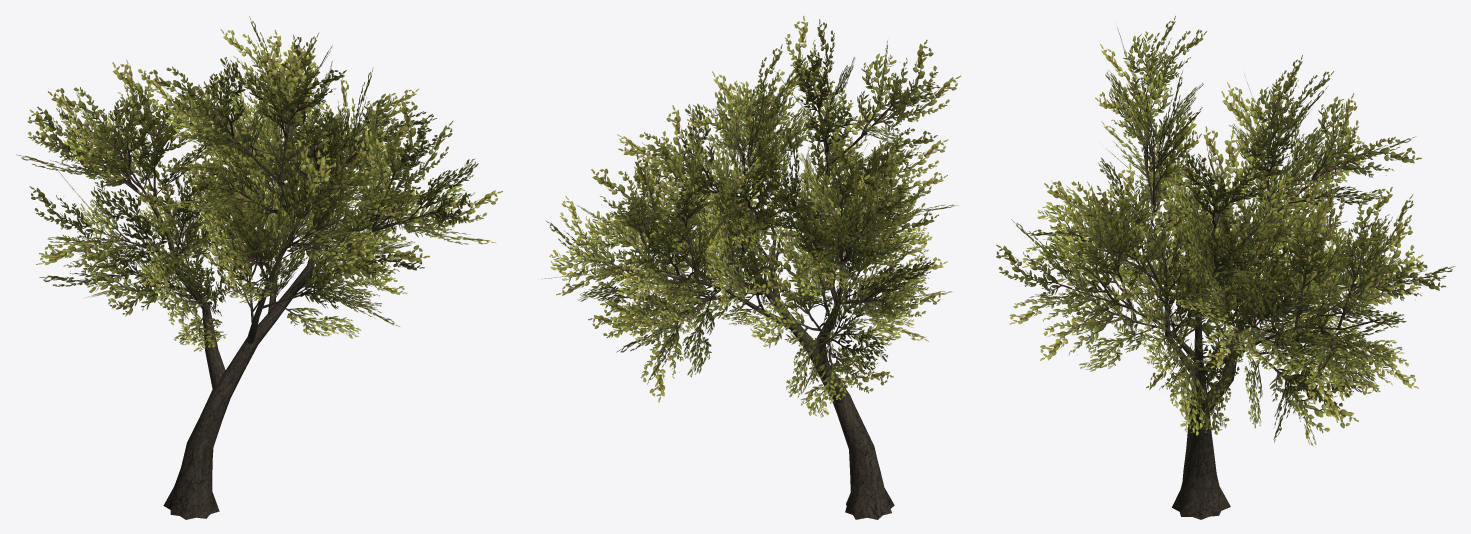
The model's file is newtrees2-transformed.glb.
3 views of the same model, side by side, from view 1: azimuth 30°, elevation 25°; view 2: azimuth 150°, elevation 25°; view 3: azimuth 270°, elevation 25° (orthographic). The views are drawn at different scales.
Parts seen in each view (by area): view 1: Canopy 1_15 - Default_0, Spline Branch E001_14 - Bark_0, Spline Branch A001_14 - Bark_0, Spline Branch B001_14 - Bark_0; view 2: Canopy 1_15 - Default_0, Spline Branch E001_14 - Bark_0, Spline Branch A001_14 - Bark_0; view 3: Canopy 1_15 - Default_0, Spline Branch E001_14 - Bark_0, Spline Branch A001_14 - Bark_0.
Boxes of the visible parts, box(x1,y1,x2,y2) form: Canopy 1_15 - Default_0: box(16, 16, 502, 351); Spline Branch E001_14 - Bark_0: box(163, 180, 324, 519); Spline Branch A001_14 - Bark_0: box(148, 194, 225, 388); Spline Branch B001_14 - Bark_0: box(246, 158, 295, 343); Canopy 1_15 - Default_0: box(542, 15, 960, 417); Spline Branch E001_14 - Bark_0: box(747, 198, 894, 519); Spline Branch A001_14 - Bark_0: box(818, 260, 844, 403); Canopy 1_15 - Default_0: box(996, 16, 1455, 445); Spline Branch E001_14 - Bark_0: box(1172, 278, 1230, 519); Spline Branch A001_14 - Bark_0: box(1207, 210, 1278, 414).
Bounding box in the file's own units: 489 × 555 × 487.
2 materials, 2 textured.
